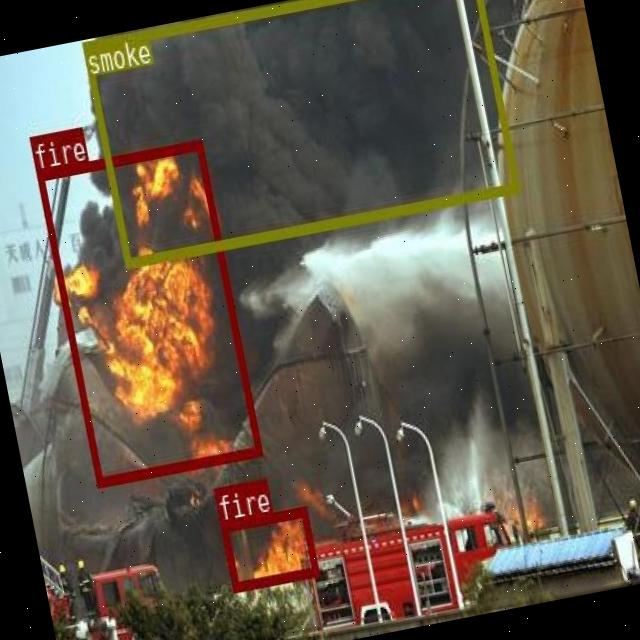fire: (36, 138, 262, 484), (220, 506, 318, 592)
smoke: (81, 0, 518, 266)
